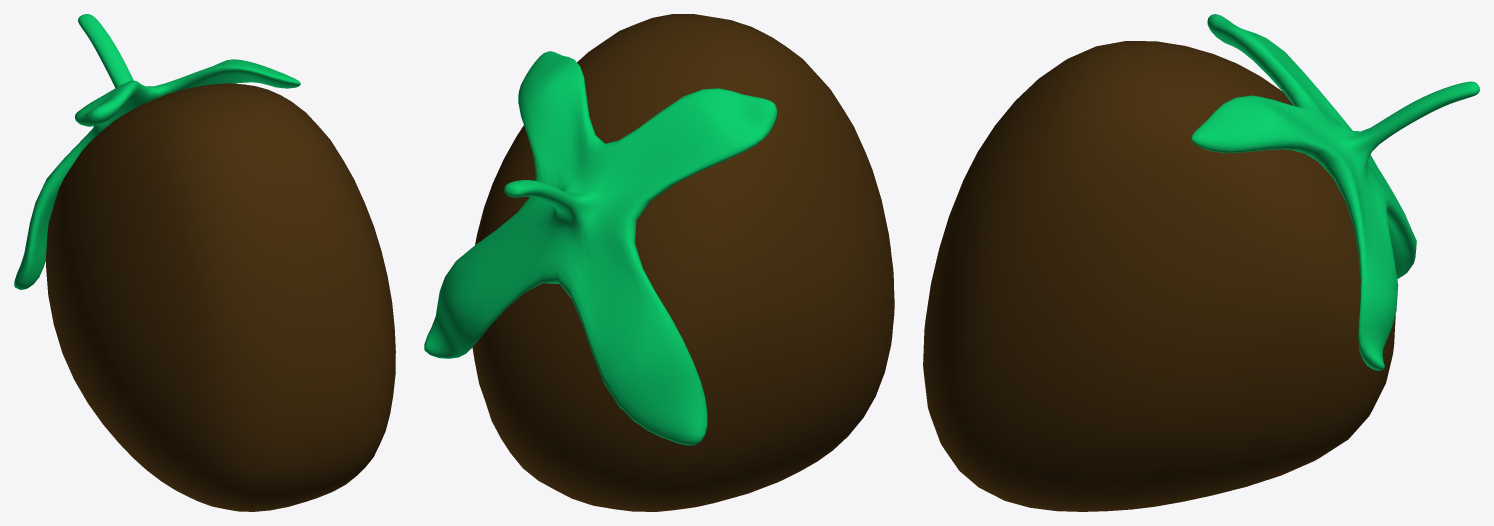
The model's file is burntberry.fbx.
3 renders of one model, left to right at view 1: azimuth 30°, elevation 25°; view 2: azimuth 150°, elevation 25°; view 3: azimuth 270°, elevation 25°, orthographic. The views are drawn at different scales.
Visible parts, largest first — view 1: polySurface4; view 2: polySurface4; view 3: polySurface4.
Boxes of the visible parts, x1,y1,x2,y2 form: polySurface4: (14,14,395,511); polySurface4: (424,14,894,511); polySurface4: (923,14,1479,511).
Size of the model in its own units: 1.17 by 1.52 by 1.76.
